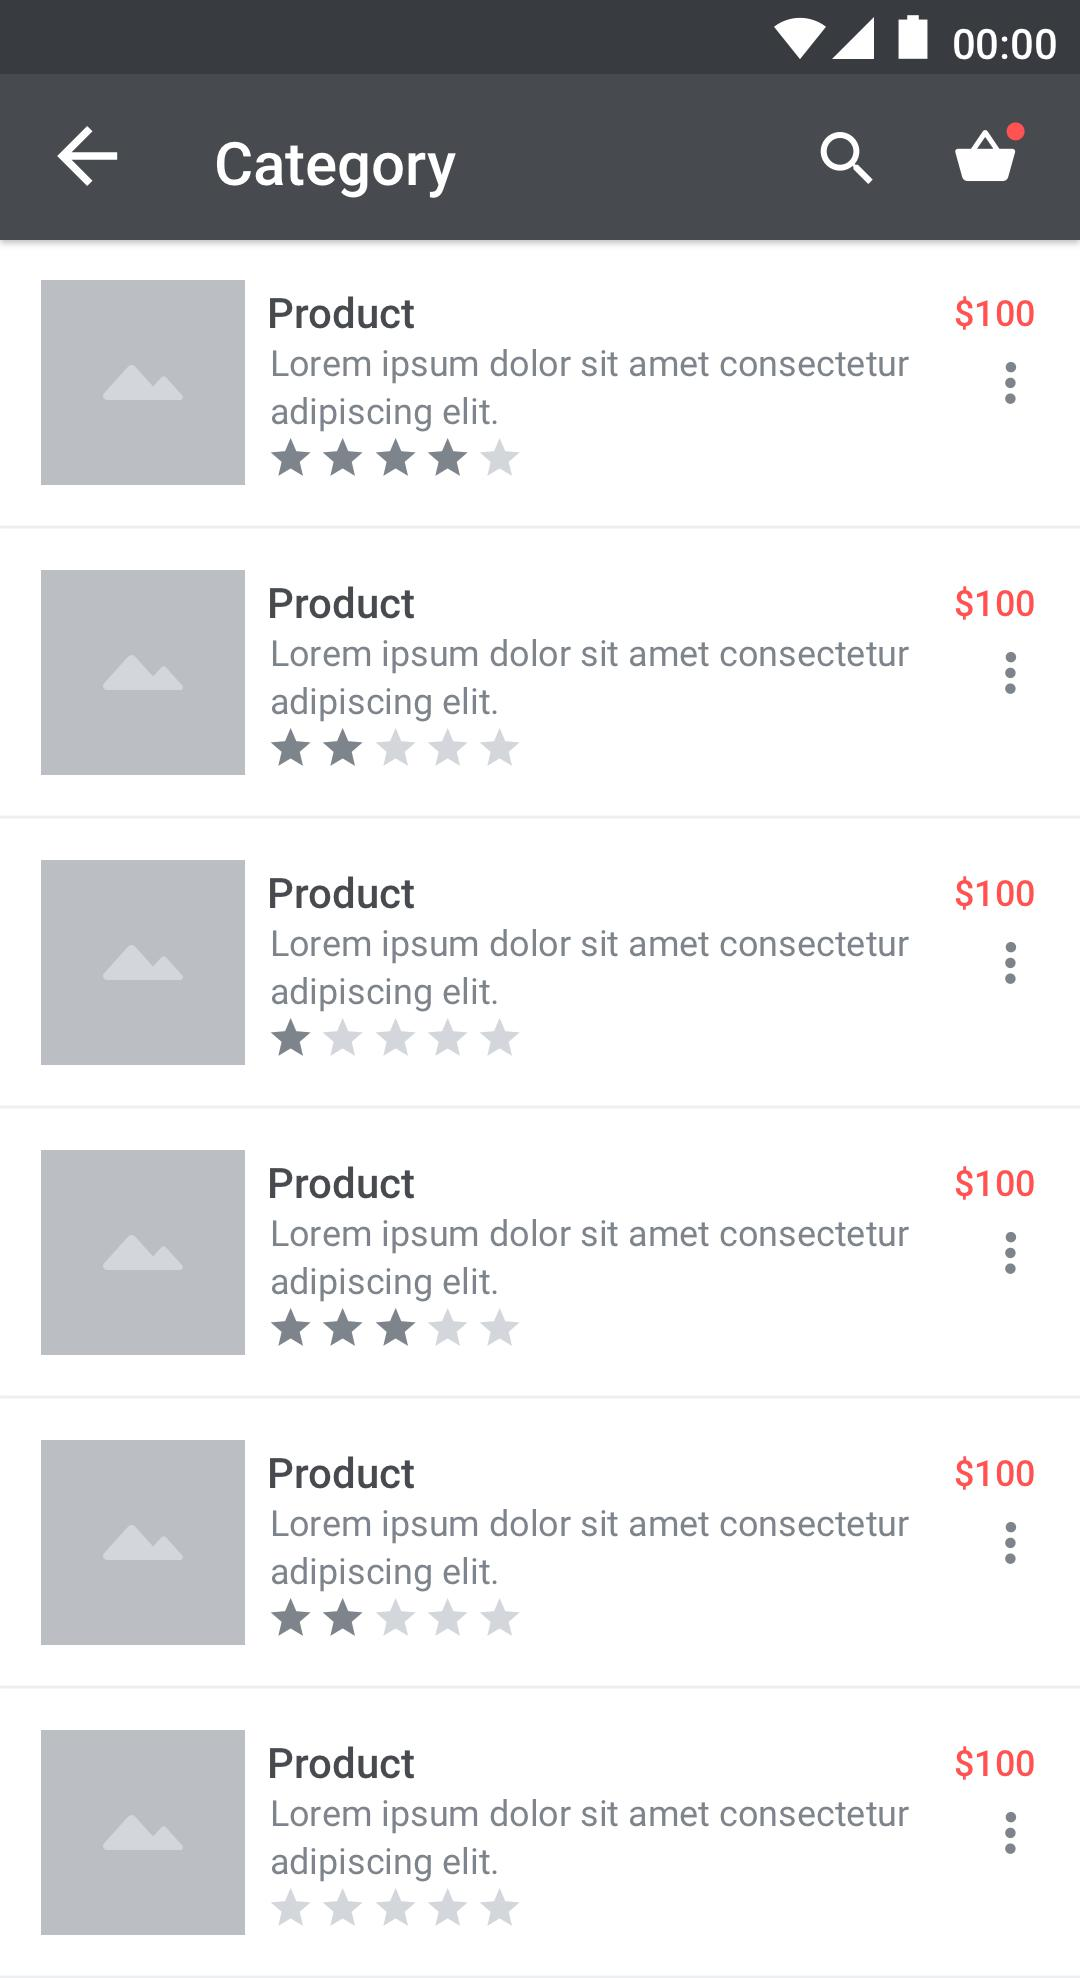Icon: (270, 1017, 521, 1058), (270, 1888, 521, 1927), (271, 728, 521, 768), (273, 439, 520, 479), (273, 1598, 520, 1638), (271, 1309, 519, 1347), (954, 121, 1029, 183), (56, 126, 118, 187), (821, 132, 875, 185), (1003, 1231, 1019, 1275), (1003, 1811, 1017, 1856), (1004, 651, 1017, 697), (1004, 362, 1017, 405), (1004, 1521, 1017, 1565), (1006, 942, 1017, 986)
Image: (41, 280, 246, 487), (43, 1729, 247, 1935), (41, 860, 246, 1065), (43, 572, 246, 776), (43, 1440, 246, 1644), (43, 1151, 246, 1355)
Text: (273, 1797, 908, 1884), (270, 1509, 910, 1593), (271, 350, 908, 433), (273, 639, 910, 723), (273, 1219, 910, 1303), (270, 929, 908, 1012), (218, 142, 456, 199), (266, 1744, 422, 1783), (270, 1164, 418, 1200), (270, 1456, 418, 1491), (271, 585, 418, 619), (271, 876, 418, 911), (270, 296, 416, 330), (955, 1166, 1036, 1202), (954, 296, 1033, 332), (955, 588, 1035, 623), (954, 1456, 1033, 1491), (955, 1745, 1033, 1781), (955, 876, 1036, 911)
UpperTaskBar: (1, 1, 1080, 74)
